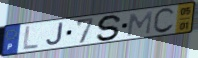7: (75, 17, 96, 45)
C: (151, 7, 176, 35)
J: (45, 21, 65, 47)
L: (21, 25, 40, 51)
M: (126, 10, 154, 38)
S: (96, 14, 124, 42)
